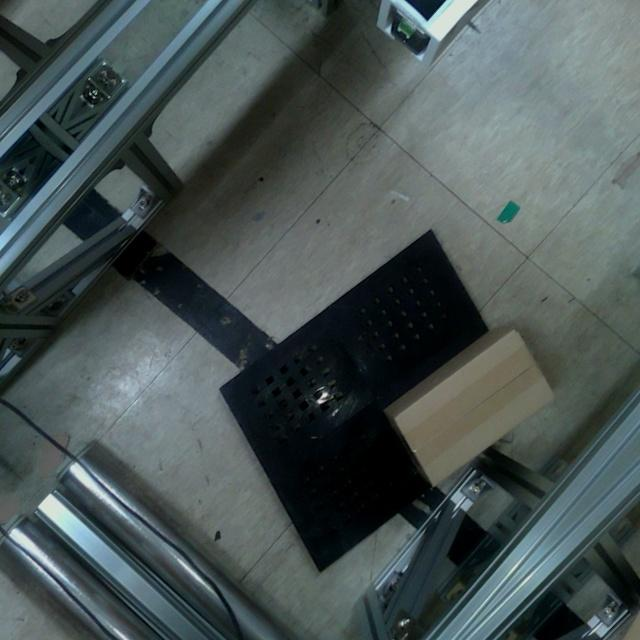box: (377, 320, 563, 494)
